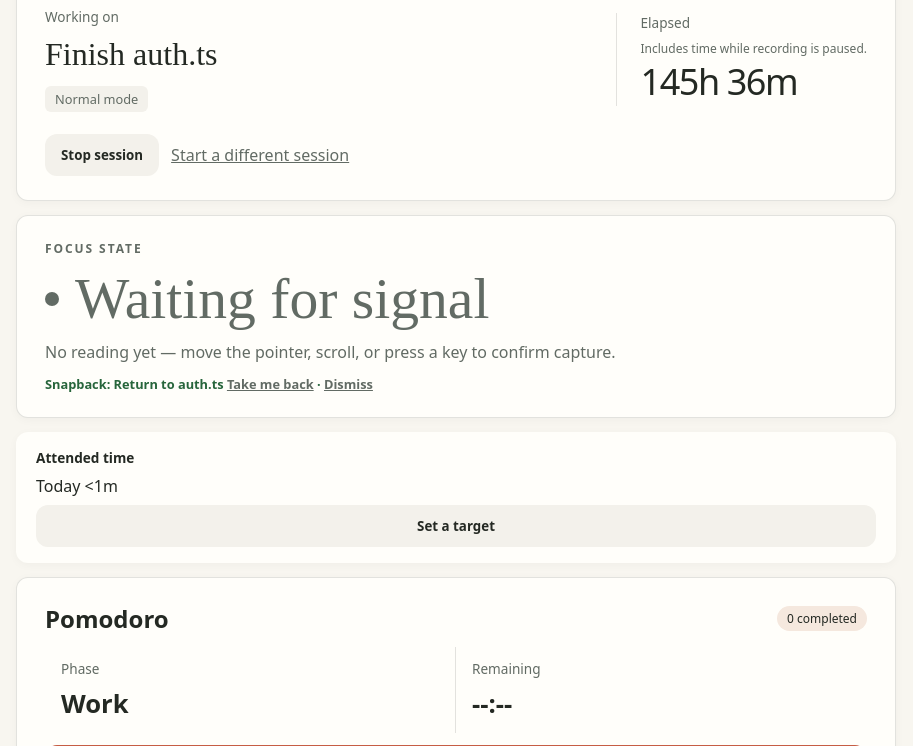
it: Snapback note dismiss and restore › treats a thrown IPC error like a failed restore instead of swallowing it
(page scrolled)
Expected: the heading "Focus state" is shown, [45, 240, 142, 257]
Expected: the text "Snapback: Return to auth.ts Take me back · Dismiss" is shown, [45, 375, 373, 393]
Click the button "Take me back" at (270, 384), box [227, 375, 314, 393]
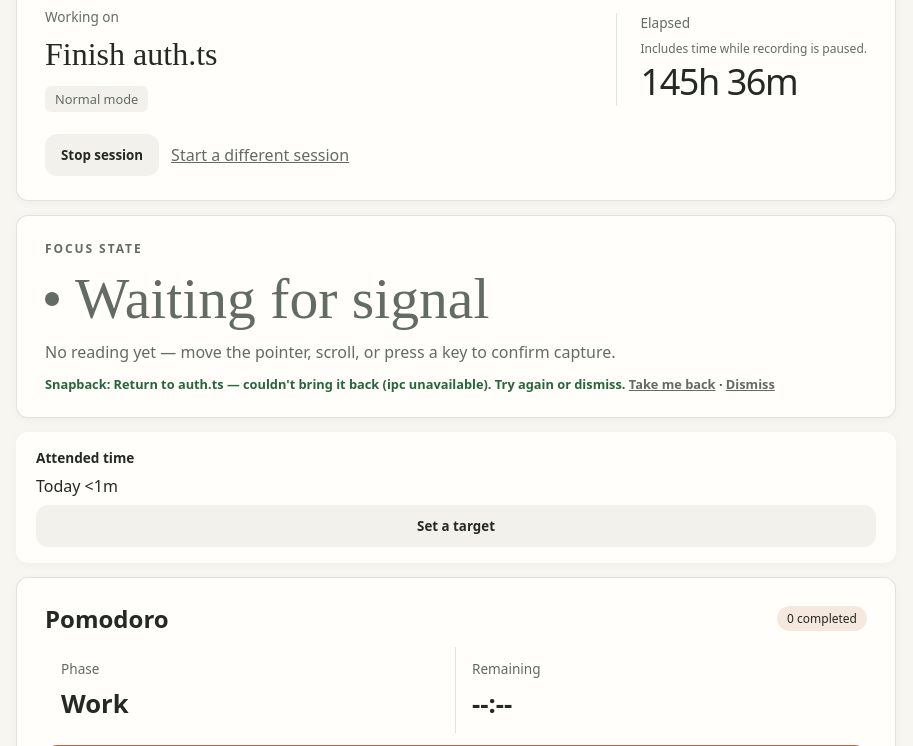
Expected: the button "Take me back" is shown, [629, 375, 716, 393]
Now the text "couldn't bring it back (ipc unavailable)" is shown, box [45, 375, 626, 393]
